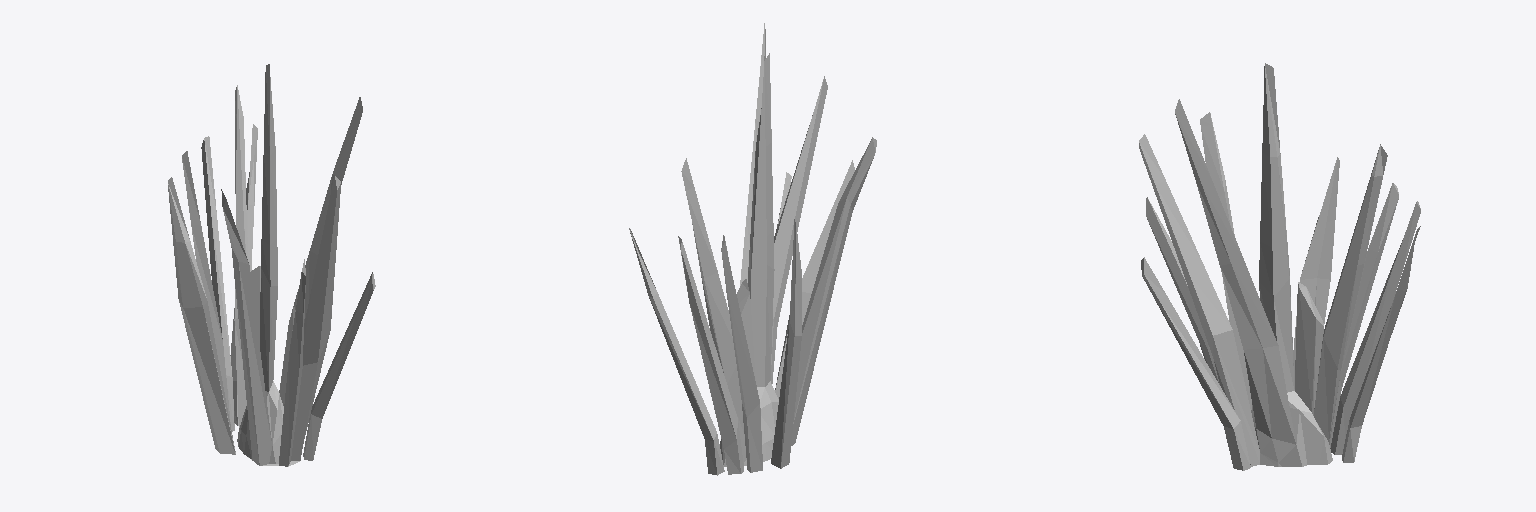
The model's file is GrassMesh.OBJ.
3 views of the same model, side by side, from view 1: azimuth 30°, elevation 25°; view 2: azimuth 150°, elevation 25°; view 3: azimuth 270°, elevation 25° (orthographic).
Parts seen in each view (by area): view 1: Group10084; view 2: Group10084; view 3: Group10084.
Boxes of the visible parts, x1,y1,x2,y2 form: Group10084: [168, 64, 375, 466]; Group10084: [629, 23, 876, 475]; Group10084: [1139, 63, 1420, 470].
Bounding box in the file's own units: 2.14 × 5.7 × 3.73.